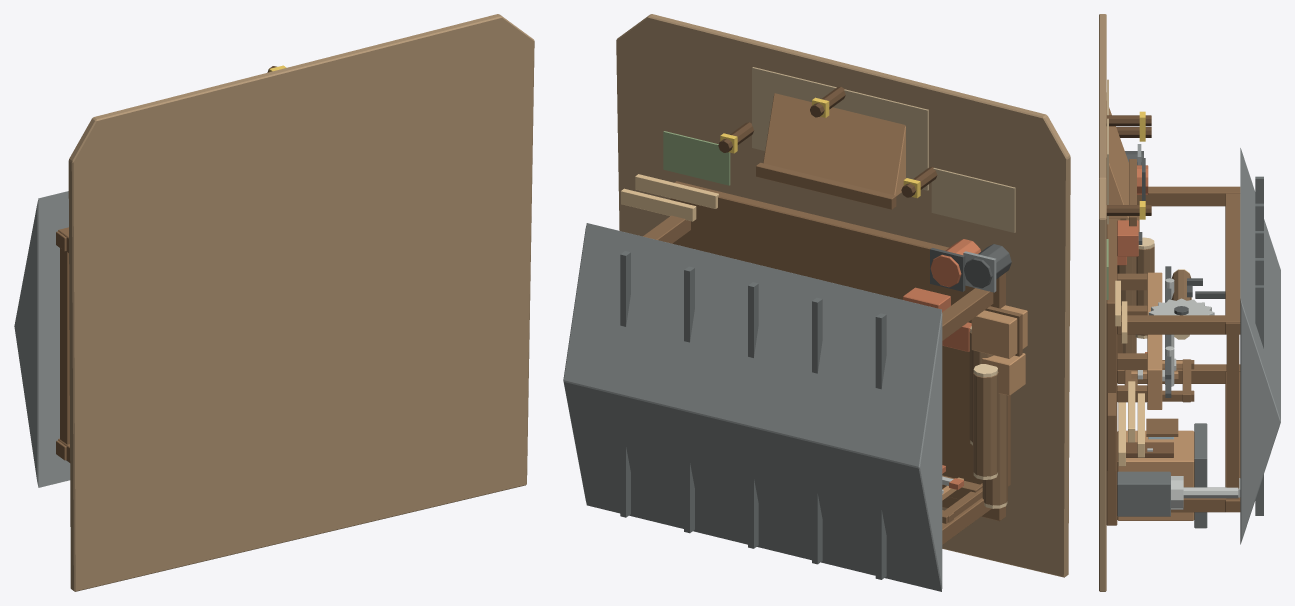
The model's file is sawmill.fbx.
The picture shows the model from 3 angles, left to right: view 1: azimuth 30°, elevation 25°; view 2: azimuth 150°, elevation 25°; view 3: azimuth 270°, elevation 25°; orthographic projection. The views are drawn at different scales.
Visible parts, largest first — view 1: GroundBase_Mesh, MainShed_Roof, MainShed_LeftBeam; view 2: MainShed_Roof, GroundBase_Mesh, MainShed, LoadingRamp, GroundPatch_LoadingDust, GroundPatch_01, GroundPatch_02, LogStack_Left_Log_03, Tool_Crate_01, LoadingRamp_BackLip, MainShed_RoofRib_01, LogStack_Left_Log_01 (+13 smaller); view 3: MainShed_Roof, GroundBase_Mesh, MainShed, ControlBooth, DustCollector, MainShed_FrontBeam, MainShed_RightBeam, MainShed_Post_04, MainShed_Post_03, SawTable, LoadingRamp, ControlBooth_Roof (+31 smaller).
Part boxes in pixels (<box>): GroundBase_Mesh: <box>68,14,534,591</box>; MainShed_Roof: <box>14,191,70,487</box>; MainShed_LeftBeam: <box>60,248,69,444</box>; MainShed_Roof: <box>563,223,942,591</box>; GroundBase_Mesh: <box>616,14,1070,577</box>; MainShed: <box>670,181,1005,521</box>; LoadingRamp: <box>763,93,905,195</box>; GroundPatch_LoadingDust: <box>752,67,928,190</box>; GroundPatch_01: <box>931,168,1015,232</box>; GroundPatch_02: <box>663,131,730,185</box>; LogStack_Left_Log_03: <box>973,372,998,476</box>; Tool_Crate_01: <box>971,305,1027,358</box>; LoadingRamp_BackLip: <box>756,162,896,209</box>; MainShed_RoofRib_01: <box>875,313,886,579</box>; LogStack_Left_Log_01: <box>982,393,1007,505</box>; MainShed_Roof: <box>1240,148,1280,544</box>; GroundBase_Mesh: <box>1099,14,1106,591</box>; MainShed: <box>1106,218,1117,525</box>; ControlBooth: <box>1117,430,1194,520</box>; DustCollector: <box>1117,471,1170,516</box>; MainShed_FrontBeam: <box>1225,193,1240,334</box>; MainShed_RightBeam: <box>1226,334,1239,498</box>; MainShed_Post_04: <box>1117,315,1240,334</box>; MainShed_Post_03: <box>1137,186,1240,206</box>; SawTable: <box>1147,272,1162,409</box>; LoadingRamp: <box>1106,101,1128,218</box>; ControlBooth_Roof: <box>1194,423,1207,528</box>.
Size of the model in its own units: 424 by 416 by 170.
